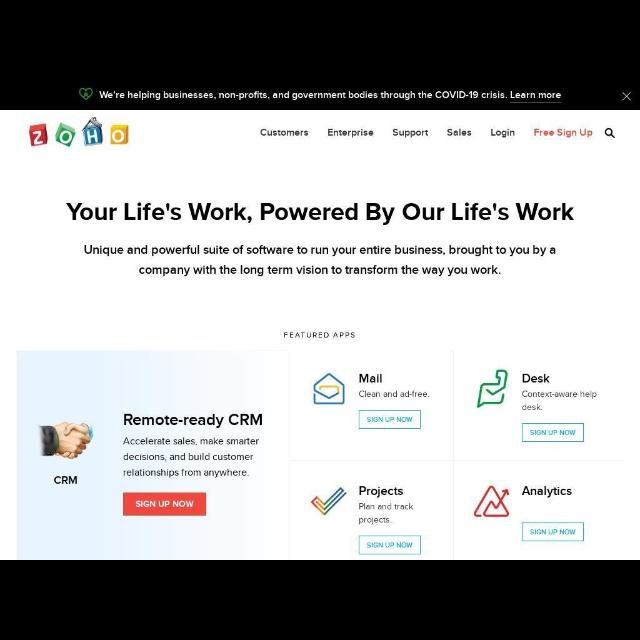icon: (80, 88, 92, 102), (604, 128, 614, 140), (622, 92, 630, 104)
iframe: (1, 82, 636, 110)
image: (27, 118, 131, 152), (37, 420, 95, 460), (474, 482, 511, 520), (310, 485, 350, 519), (477, 369, 509, 408), (312, 374, 346, 406)
text: (84, 245, 556, 278), (66, 202, 574, 222), (123, 436, 259, 478), (99, 90, 508, 100), (123, 412, 265, 428), (522, 388, 598, 412), (358, 502, 414, 524), (284, 330, 356, 340), (509, 90, 563, 102), (138, 498, 194, 509), (259, 127, 309, 139), (534, 128, 594, 138), (359, 390, 429, 398), (364, 540, 414, 550), (522, 486, 572, 496), (328, 128, 374, 138), (367, 415, 413, 425), (359, 486, 405, 496), (530, 526, 576, 536), (393, 128, 431, 138), (530, 429, 576, 437), (358, 372, 386, 382), (56, 474, 78, 486), (523, 374, 549, 384), (447, 128, 473, 136), (490, 129, 514, 137)
textbutton: (124, 490, 206, 518), (357, 532, 423, 558), (522, 520, 584, 542), (522, 422, 582, 443), (361, 410, 422, 430)
